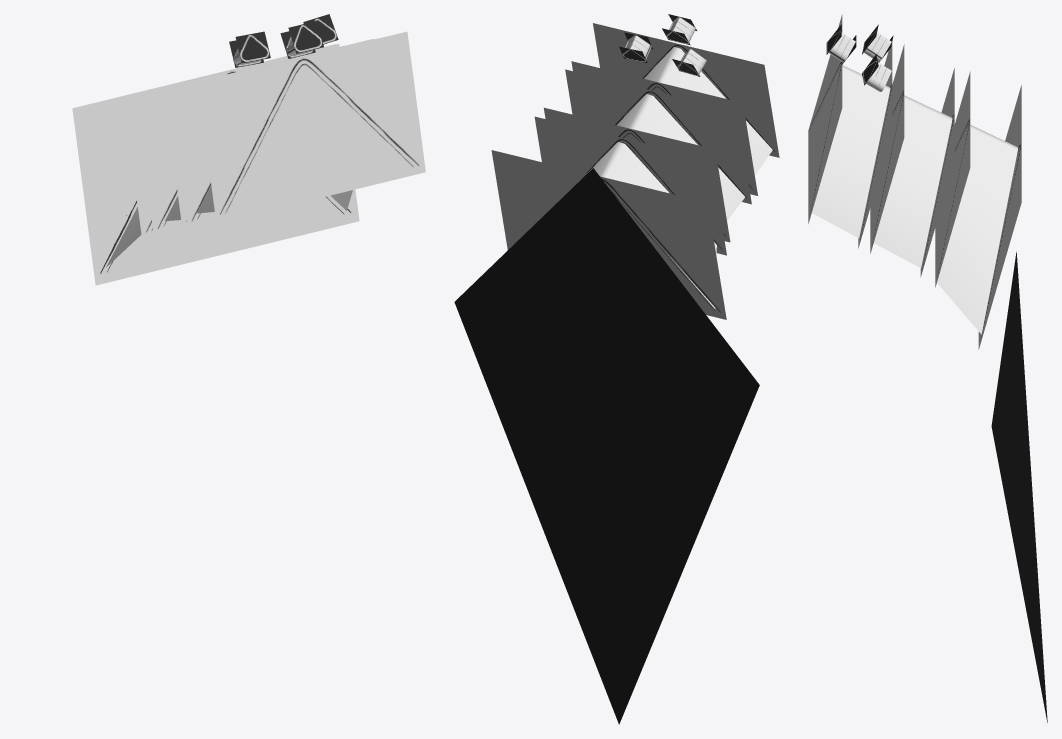
Rendered from rdc_3.dae.
3 views of the same model, side by side, from view 1: azimuth 30°, elevation 25°; view 2: azimuth 150°, elevation 25°; view 3: azimuth 270°, elevation 25° (orthographic). The views are drawn at different scales.
Visible parts, largest first — view 1: topgrande (×6), megapattern_top (×2), banchi; view 2: nero, topgrande (×6), banchi (×3); view 3: banchi (×3), topgrande (×6), nero.
Part boxes in pixels (box(x1,y1,x2,y2)): topgrande (×6): box(72, 31, 425, 285); megapattern_top (×2): box(235, 21, 323, 63); banchi: box(106, 190, 352, 267); nero: box(454, 168, 759, 724); topgrande (×6): box(491, 23, 779, 319); banchi (×3): box(588, 47, 772, 308); banchi (×3): box(812, 65, 1018, 334); topgrande (×6): box(808, 14, 1021, 349); nero: box(991, 251, 1047, 722).
Bounding box in the file's own units: 2624 × 5015 × 1530.
6 materials, 4 textured.
